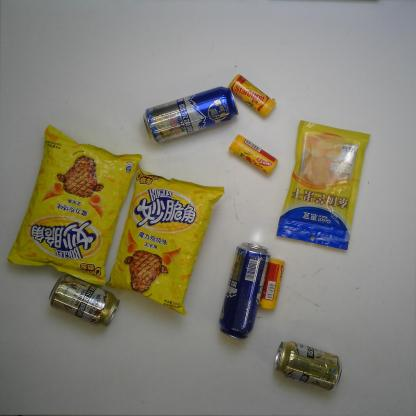Alcohol: (141, 83, 239, 145), (218, 242, 272, 342), (47, 276, 121, 328), (274, 340, 344, 392)
Candy: (230, 72, 278, 118), (228, 132, 278, 176), (259, 258, 286, 310)
Dried Fruit: (278, 118, 369, 249)
Puffed Food: (6, 124, 142, 287), (103, 161, 226, 318)
